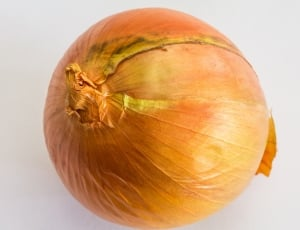onion rotten: (48, 2, 262, 225)
